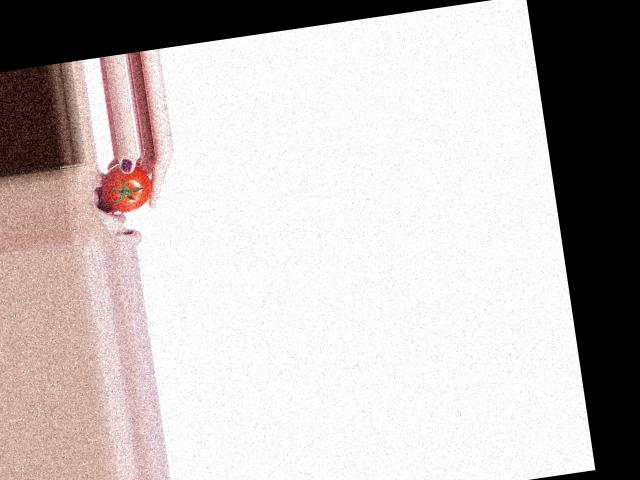tomato: (99, 159, 155, 214)
